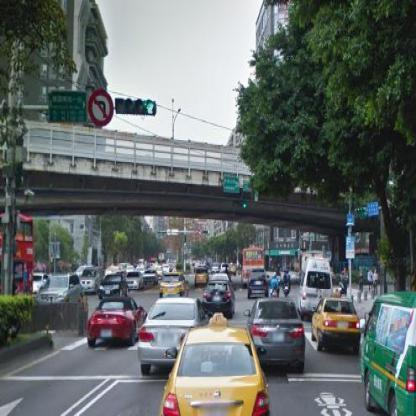Green Light: (113, 98, 159, 118), (234, 199, 249, 209)
